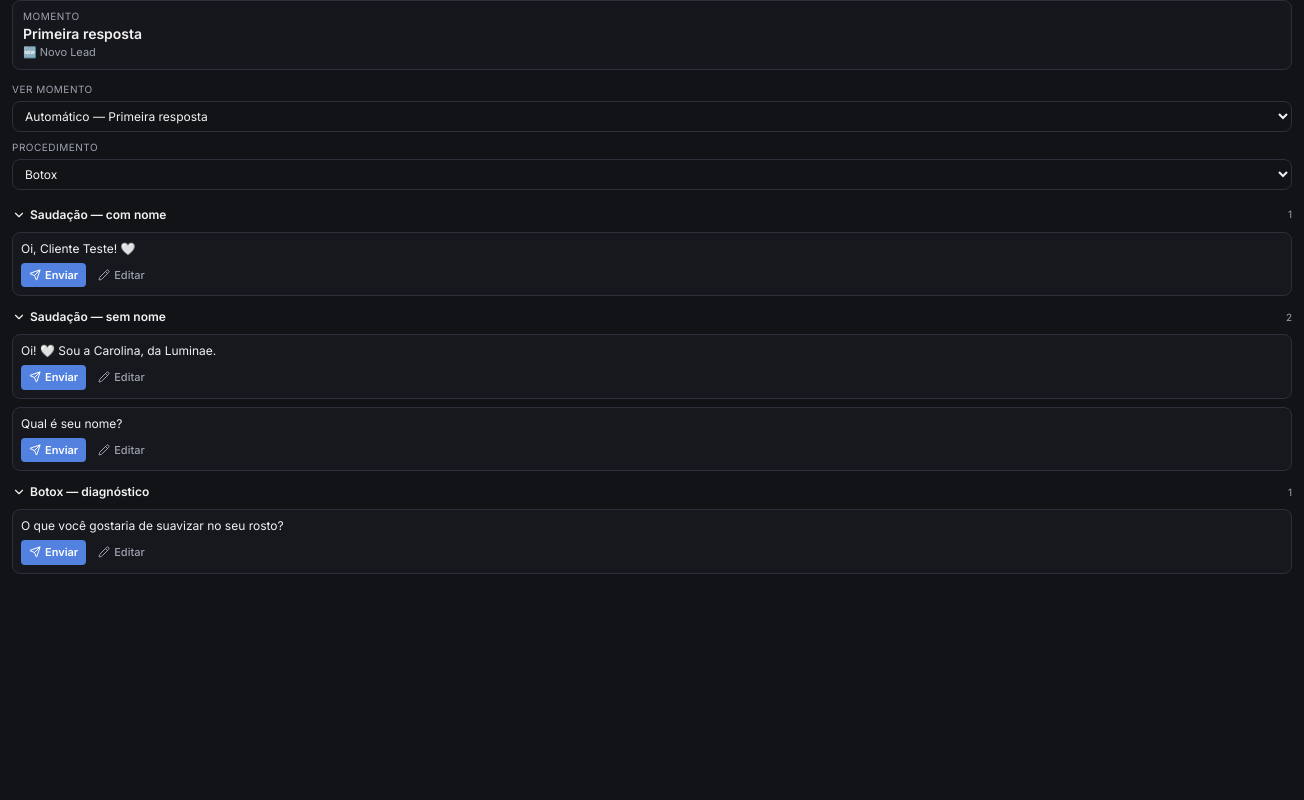
ScriptPanel › trocar o procedimento no seletor troca os passos da trilha
Select "Preenchimento labial" in the dropdown showing "Botox" below "Procedimento" at [652, 174], box [12,158,1292,190]
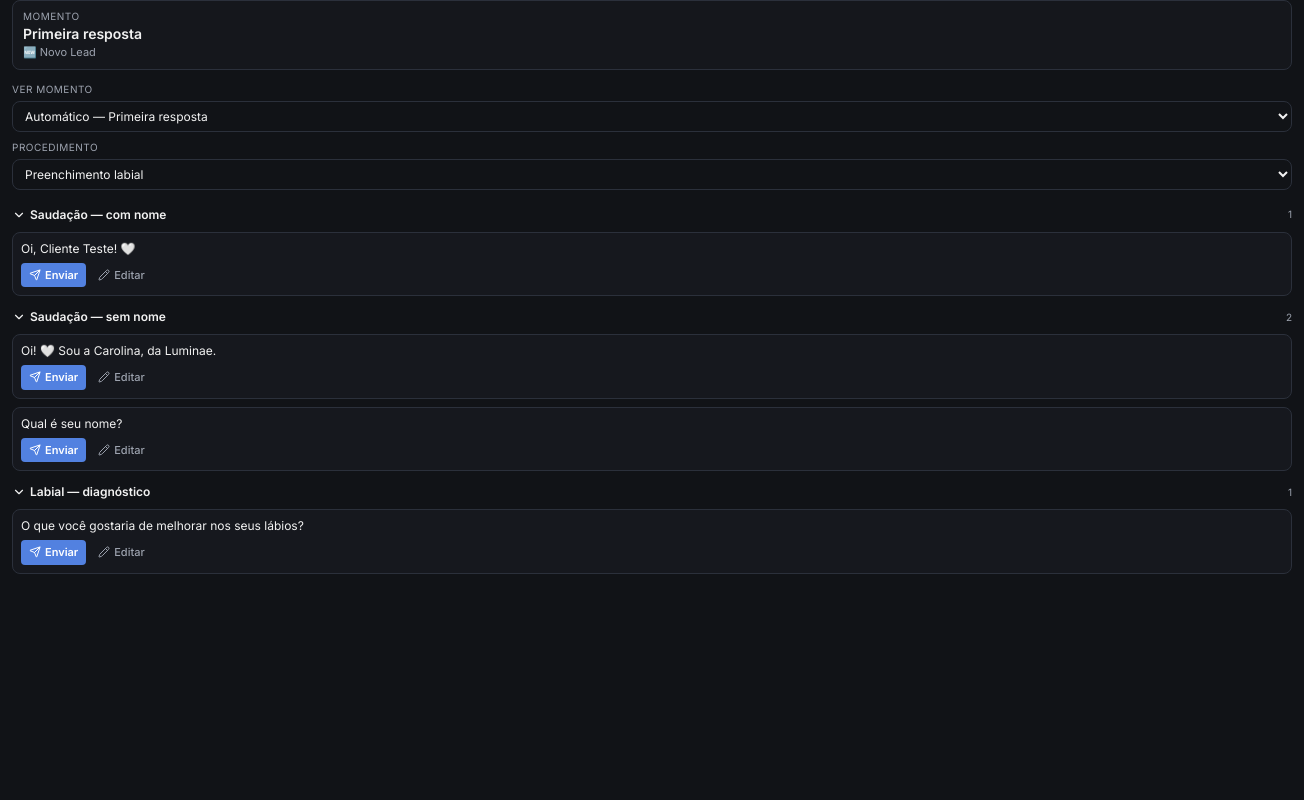
Now the text "Labial — diagnóstico" is shown, box [30,483,150,501]
Now the button "Botox — diagnóstico" is gone
